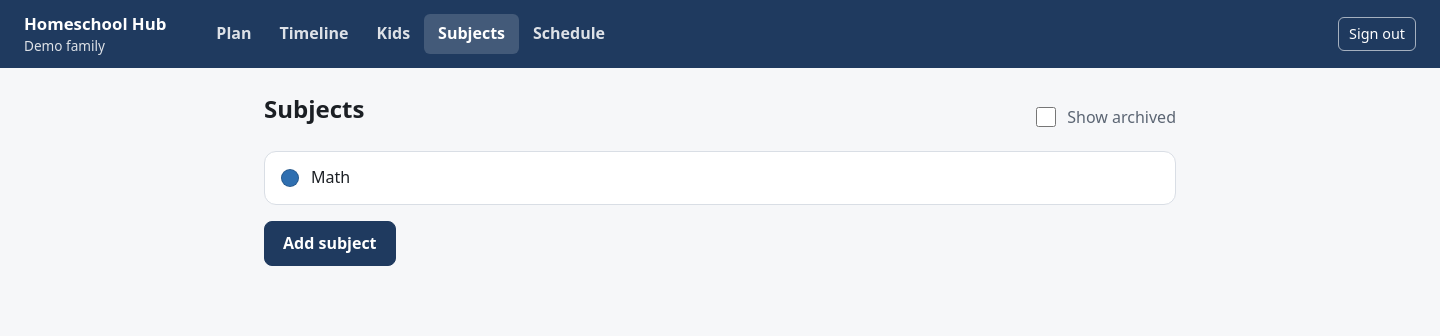
Test: Subjects list › 'Show archived' refetches with includeArchived=true and tags archived rows
Expected: the text "Math" is shown, [311,166,350,188]
Expected: the text "Old Latin" is not shown
Click the checkbox labelled "Show archived" at (1046, 117), box [1036,107,1056,127]
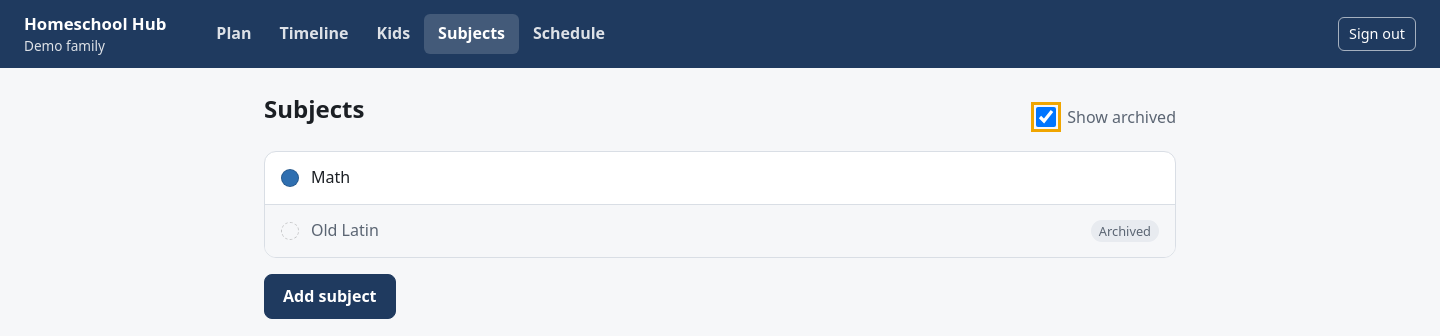
Expected: the text "Archived" is shown, [1091,220,1159,242]
